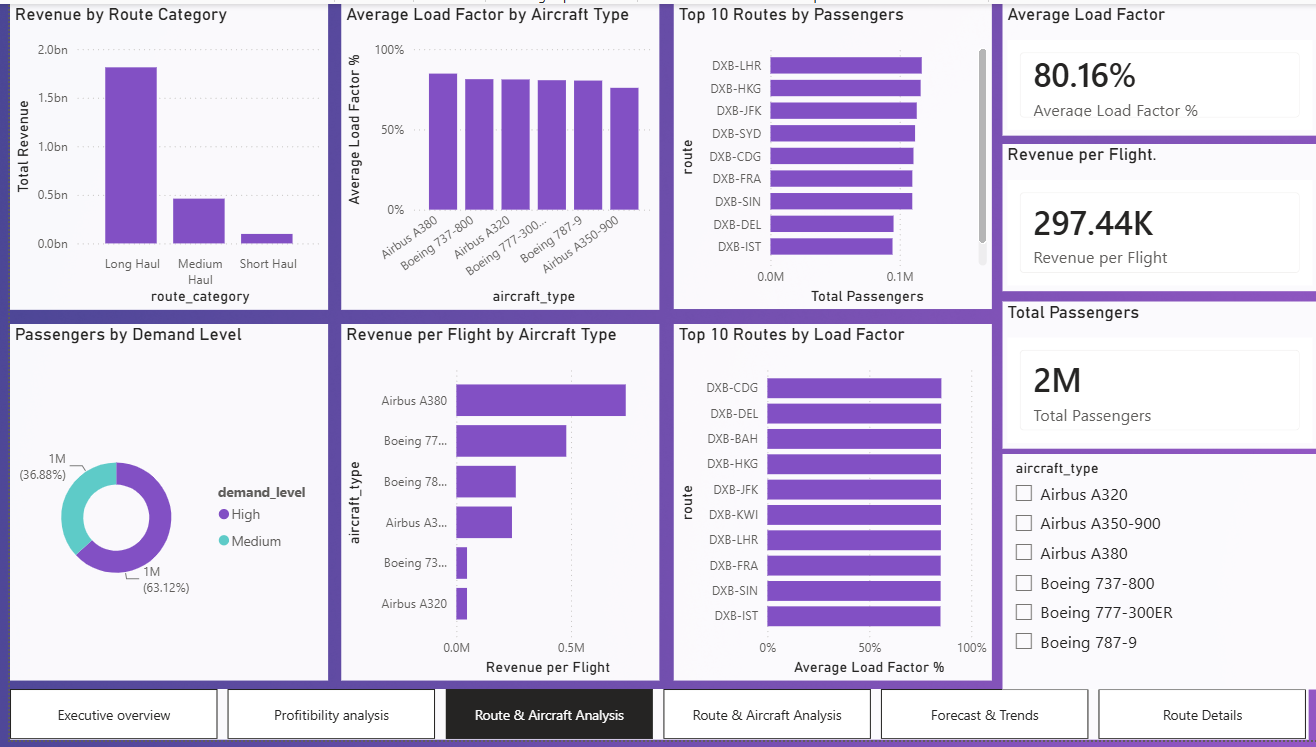

The page's visual inventory and layout, read from the dashboard file:
{"tool":"powerbi","page":{"name":"Route & Aircraft Analysis","canvas":[1280,720],"ordinal":2},"visuals":[{"type":"cardVisual","title":"Average Load Factor","fields":{"Data":["Airline Data.Average Load Factor %"]},"box":[971.2,0,308.8,128.8],"z":0},{"type":"cardVisual","title":"Revenue per Flight.","fields":{"Data":["Airline Data.Revenue per Flight"]},"box":[971.2,137.5,308.8,143.8],"z":1000},{"type":"cardVisual","title":"Total Passengers","fields":{"Data":["Airline Data.Total Passengers"]},"box":[971.2,291.2,308.8,143.8],"z":2000},{"type":"clusteredBarChart","title":"Top 10 Routes by Passengers","fields":{"Category":["Airline Data.route"],"Y":["Airline Data.Total Passengers"]},"box":[648.8,0,311.4,298.6],"z":3000},{"type":"clusteredBarChart","title":"Top 10 Routes by Load Factor","fields":{"Category":["Airline Data.route"],"Y":["Airline Data.Average Load Factor %"]},"box":[648.8,312.5,311.2,348.8],"z":4000},{"type":"clusteredColumnChart","title":"Average Load Factor by Aircraft Type","fields":{"Category":["Airline Data.aircraft_type"],"Y":["Airline Data.Average Load Factor %"]},"box":[323.8,0,311,299],"z":5000},{"type":"clusteredBarChart","title":"Revenue per Flight by Aircraft Type","fields":{"Category":["Airline Data.aircraft_type"],"Y":["Airline Data.Revenue per Flight"]},"box":[323.8,312.5,311.2,348.8],"z":6000},{"type":"donutChart","title":"Passengers by Demand Level","fields":{"Category":["Airline Data.demand_level"],"Y":["Airline Data.Total Passengers"]},"box":[0,312.5,311.2,348.8],"z":7000},{"type":"clusteredColumnChart","title":"Revenue by Route Category","fields":{"Category":["Airline Data.route_category"],"Y":["Airline Data.Total Revenue"]},"box":[0,0,311,299],"z":8000},{"type":"pageNavigator","box":[0,670.6,1270.7,49.4],"z":9000},{"type":"slicer","fields":{"Values":["Airline Data.aircraft_type"]},"box":[971.2,440,308.8,230],"z":10000}]}

Visuals, with their boxes in screenshot pixels (x1, y1, x2, y2):
"Average Load Factor" cardVisual: l=992, t=7, r=1305, b=137
"Revenue per Flight." cardVisual: l=992, t=146, r=1305, b=292
"Total Passengers" cardVisual: l=992, t=302, r=1305, b=448
"Top 10 Routes by Passengers" clusteredBarChart: l=665, t=7, r=980, b=310
"Top 10 Routes by Load Factor" clusteredBarChart: l=665, t=324, r=980, b=677
"Average Load Factor by Aircraft Type" clusteredColumnChart: l=335, t=7, r=650, b=310
"Revenue per Flight by Aircraft Type" clusteredBarChart: l=335, t=324, r=651, b=677
"Passengers by Demand Level" donutChart: l=7, t=324, r=322, b=677
"Revenue by Route Category" clusteredColumnChart: l=7, t=7, r=322, b=310
pageNavigator: l=7, t=687, r=1295, b=737
slicer - Airline Data.aircraft_type: l=992, t=453, r=1305, b=686
